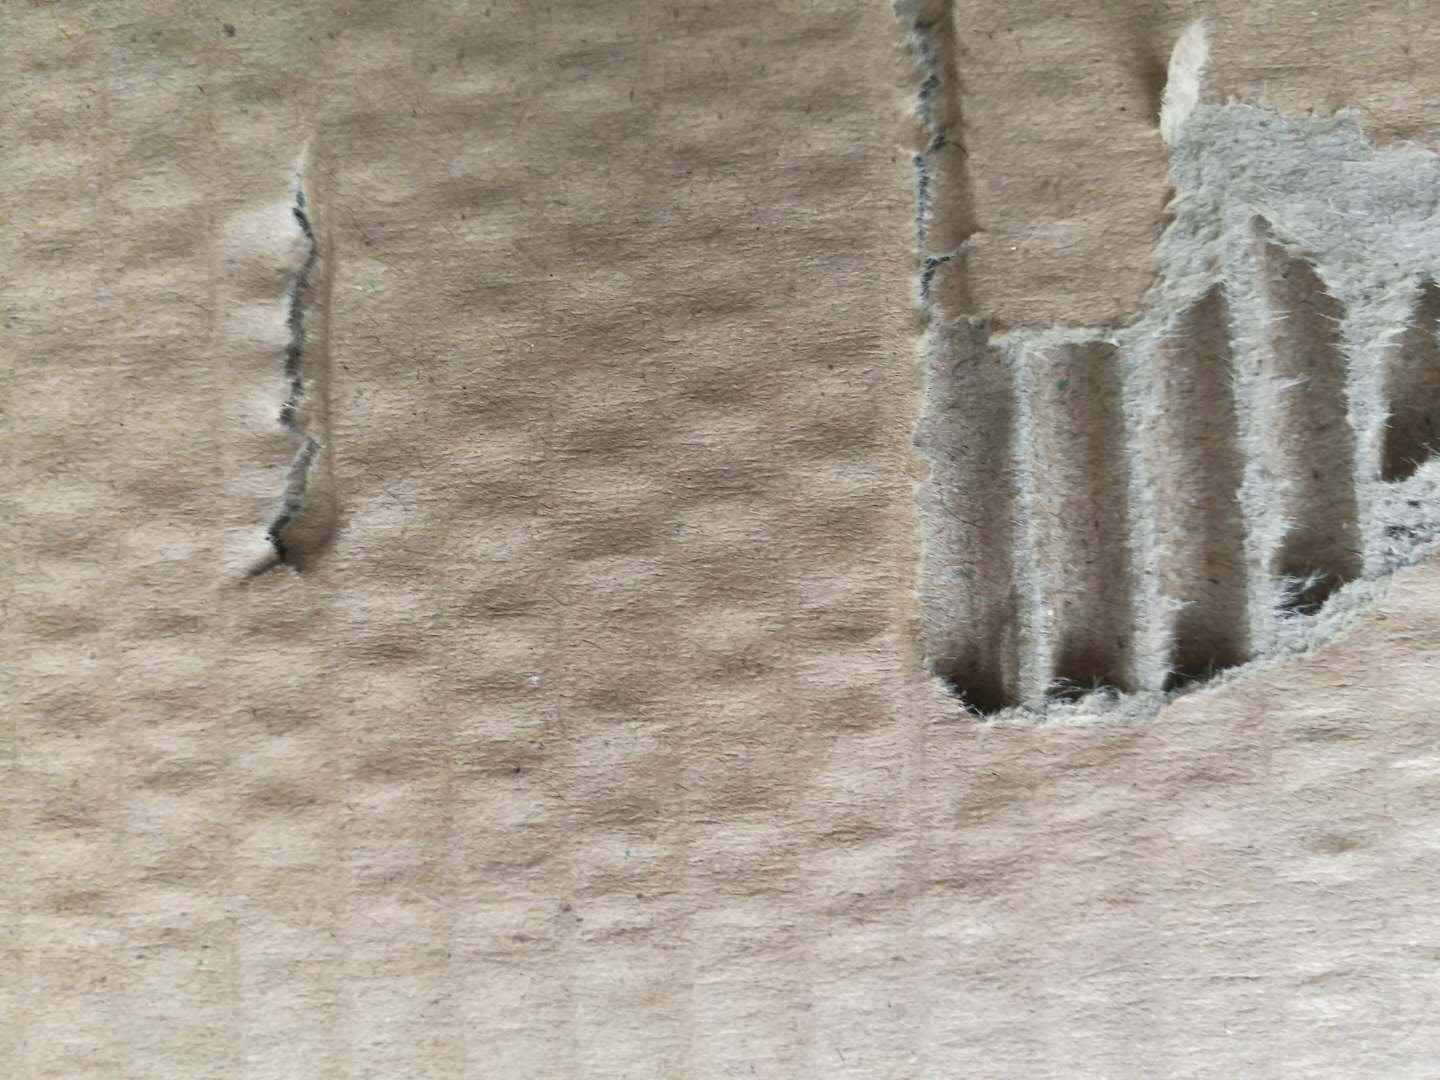defect: (819, 3, 1440, 790), (166, 106, 391, 672)
